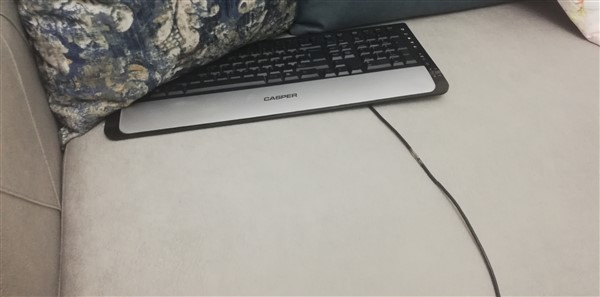klavye: (102, 17, 449, 142)
